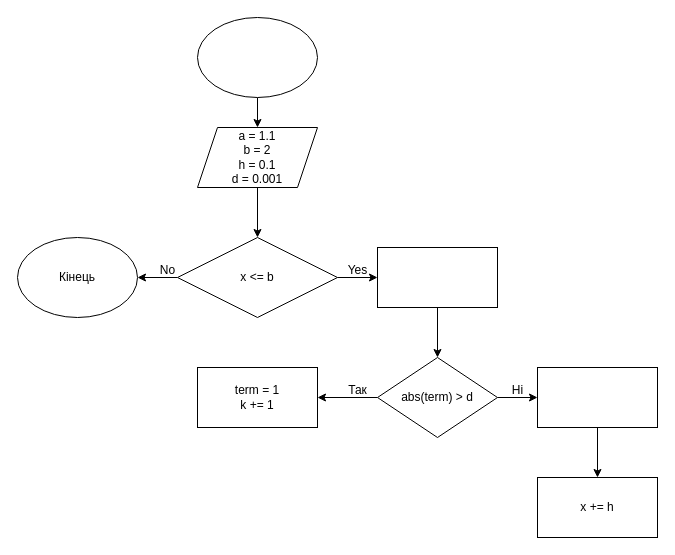
The diagram is 675 pixels wide and 555 high, and some of its shapes have lost their labels. Each missing label, with the centre of its shape:
"return total_sum" belongs at point 597,397.
"total_sum = 0 k = 1 term = 1" belongs at point 437,277.
"Початок" belongs at point 257,57.
